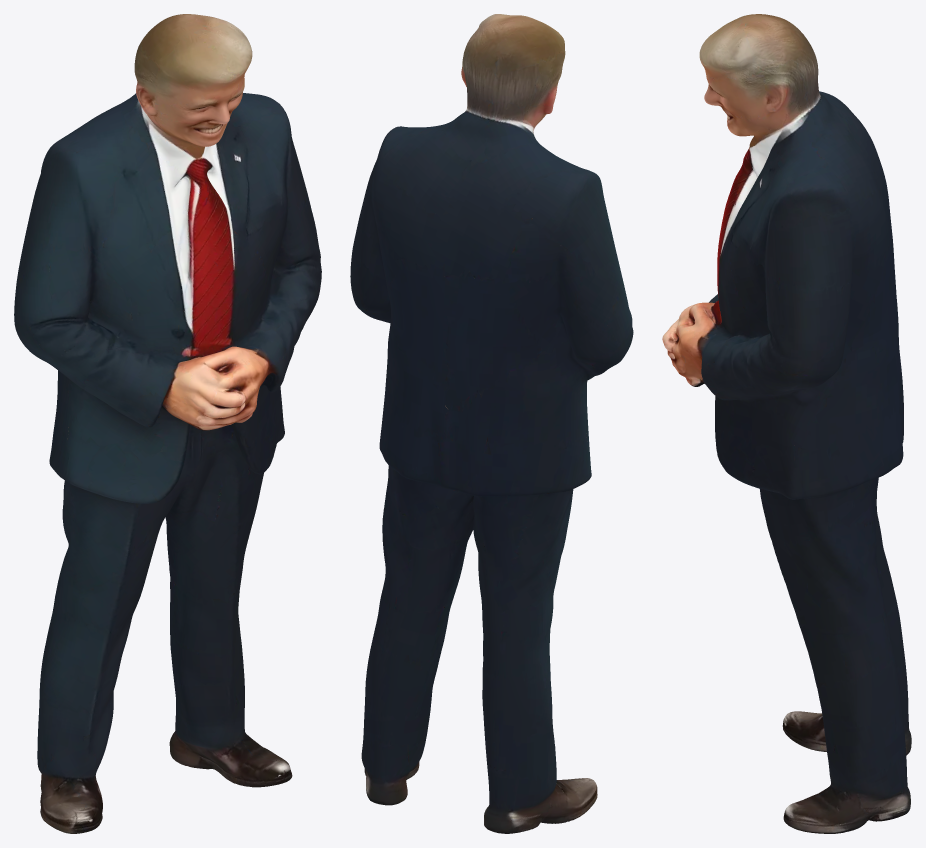
Rendered from Meshy_AI__0531121955_texture_1781240805860.glb.
3 renders of one model, left to right at view 1: azimuth 30°, elevation 25°; view 2: azimuth 150°, elevation 25°; view 3: azimuth 270°, elevation 25°, orthographic. The views are drawn at different scales.
Size of the model in its own units: 0.761 by 2 by 0.5945.
Materials: 1 (1 with a texture image).
